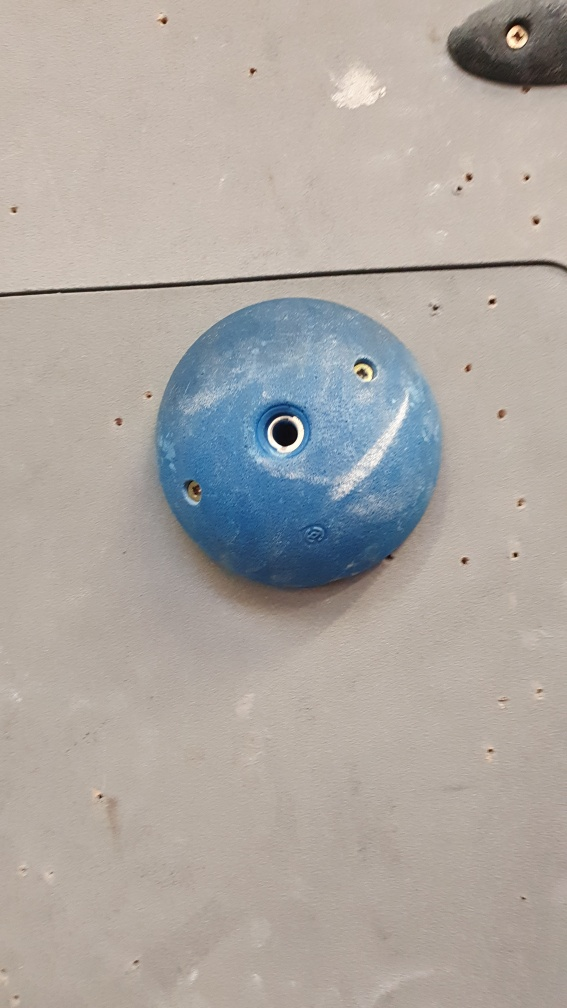Sloper: (153, 294, 449, 595)
